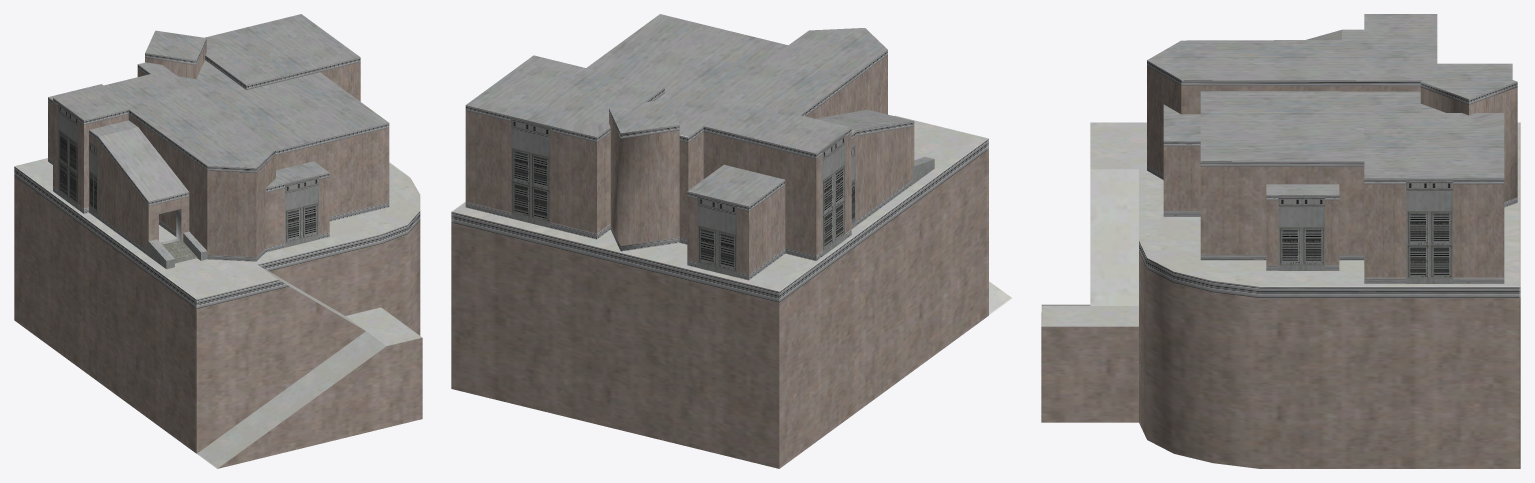
The model's file is ply_corl_house_lg_s02_fp1_r0_mesh_l3.fbx.
The picture shows the model from 3 angles, left to right: view 1: azimuth 30°, elevation 25°; view 2: azimuth 150°, elevation 25°; view 3: azimuth 270°, elevation 25°; orthographic projection. The views are drawn at different scales.
Visible parts, largest first — view 1: mesh_node; view 2: mesh_node; view 3: mesh_node.
Boxes of the visible parts, left/top/right/bottom form: mesh_node: left=14, top=14, right=422, bottom=468; mesh_node: left=451, top=14, right=1012, bottom=468; mesh_node: left=1041, top=14, right=1520, bottom=468.
Bounding box in the file's own units: 31.97 × 27.49 × 39.4.
